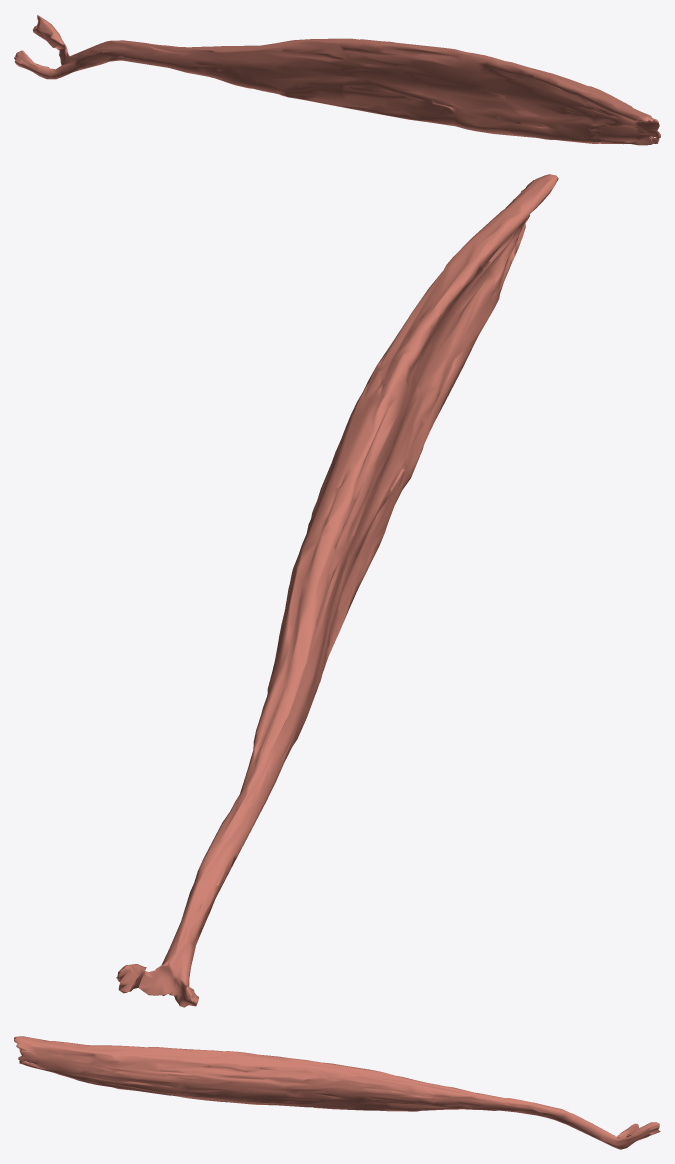
3 renders of one model, top to bottom at view 1: azimuth 30°, elevation 25°; view 2: azimuth 150°, elevation 25°; view 3: azimuth 270°, elevation 25°, orthographic. The views are drawn at different scales.
Visible parts, largest first — view 1: 右侧尺侧腕屈肌肱头; view 2: 右侧尺侧腕屈肌肱头; view 3: 右侧尺侧腕屈肌肱头.
Boxes of the visible parts, x1,y1,x2,y2 form: 右侧尺侧腕屈肌肱头: (14,15,660,145); 右侧尺侧腕屈肌肱头: (116,174,558,1007); 右侧尺侧腕屈肌肱头: (14,1036,660,1149).
Bounding box in the file's own units: 0.1046 × 0.115 × 0.4062.
